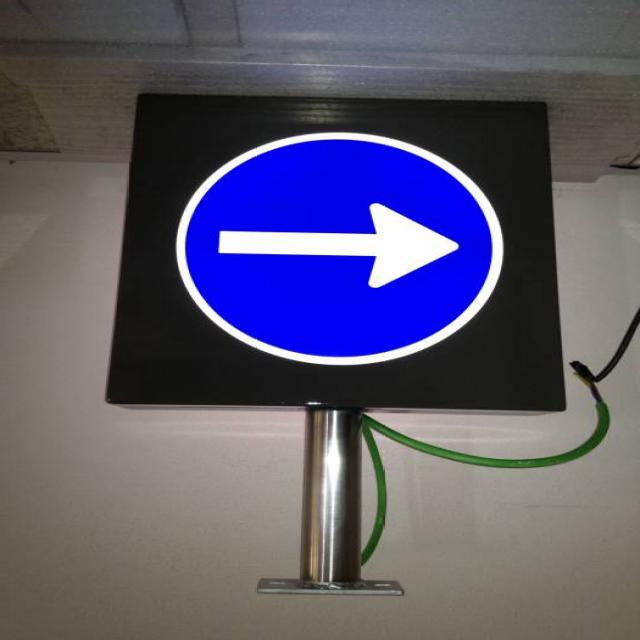Turn Right: (179, 137, 507, 364)
